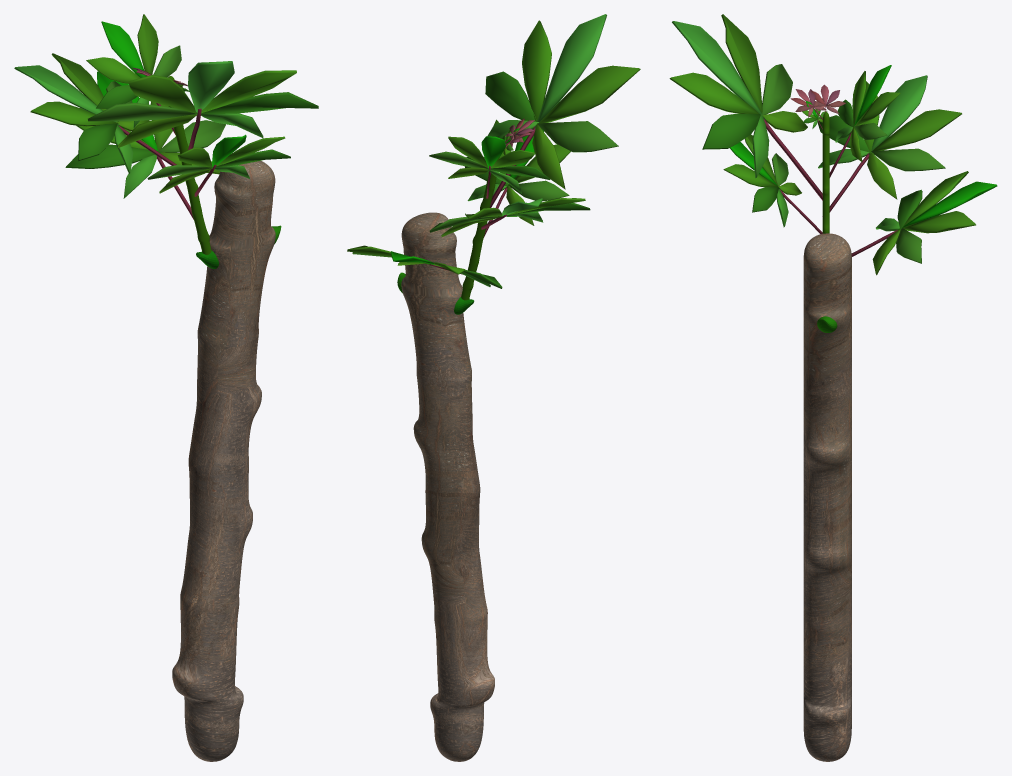
Rendered from casava_2.glb.
The picture shows the model from 3 angles, left to right: view 1: azimuth 30°, elevation 25°; view 2: azimuth 150°, elevation 25°; view 3: azimuth 270°, elevation 25°; orthographic projection. The views are drawn at different scales.
Parts seen in each view (by area): view 1: Plane, Plane.010, Plane.012, Plane.011, Plane.013, Plane.026, Plane.015, Plane.001, Plane.028, Plane.021, Plane.042, Plane.029 (+12 smaller); view 2: Plane, Plane.010, Plane.011, Plane.012, Plane.015, Plane.013, Plane.016, Plane.001, Plane.039, Plane.042, Plane.043; view 3: Plane, Plane.010, Plane.011, Plane.012, Plane.026, Plane.027, Plane.013, Plane.031, Plane.015, Plane.018, Plane.019, Plane.001 (+8 smaller).
Part boxes in pixels (left/top/right/bottom): Plane: left=172, top=160, right=275, bottom=761; Plane.010: left=188, top=61, right=234, bottom=112; Plane.012: left=196, top=70, right=296, bottom=114; Plane.011: left=129, top=74, right=196, bottom=113; Plane.013: left=192, top=92, right=318, bottom=114; Plane.026: left=14, top=65, right=119, bottom=125; Plane.015: left=88, top=102, right=194, bottom=121; Plane.001: left=168, top=76, right=211, bottom=254; Plane.028: left=30, top=101, right=118, bottom=126; Plane.021: left=65, top=144, right=162, bottom=168; Plane.042: left=101, top=21, right=146, bottom=77; Plane.029: left=78, top=123, right=117, bottom=161; Plane: left=401, top=212, right=494, bottom=761; Plane.010: left=534, top=14, right=606, bottom=128; Plane.011: left=539, top=65, right=640, bottom=123; Plane.012: left=522, top=20, right=551, bottom=121; Plane.015: left=537, top=121, right=618, bottom=152; Plane.013: left=485, top=71, right=540, bottom=127; Plane.016: left=532, top=124, right=565, bottom=189; Plane.001: left=461, top=157, right=499, bottom=300; Plane.039: left=508, top=180, right=569, bottom=201; Plane.042: left=481, top=136, right=505, bottom=168; Plane.043: left=448, top=136, right=487, bottom=167; Plane: left=803, top=233, right=851, bottom=761; Plane.010: left=672, top=21, right=765, bottom=119; Plane.011: left=721, top=14, right=762, bottom=113; Plane.012: left=669, top=72, right=758, bottom=114; Plane.026: left=868, top=75, right=927, bottom=154; Plane.027: left=873, top=109, right=961, bottom=150; Plane.013: left=702, top=114, right=765, bottom=149; Plane.031: left=871, top=148, right=945, bottom=171; Plane.015: left=762, top=64, right=792, bottom=115; Plane.018: left=898, top=181, right=997, bottom=229; Plane.019: left=903, top=211, right=975, bottom=233; Plane.001: left=822, top=112, right=829, bottom=233.
Bounding box in the file's own units: 1.86 × 6.07 × 2.56.
Materials: 28 (1 with a texture image).
